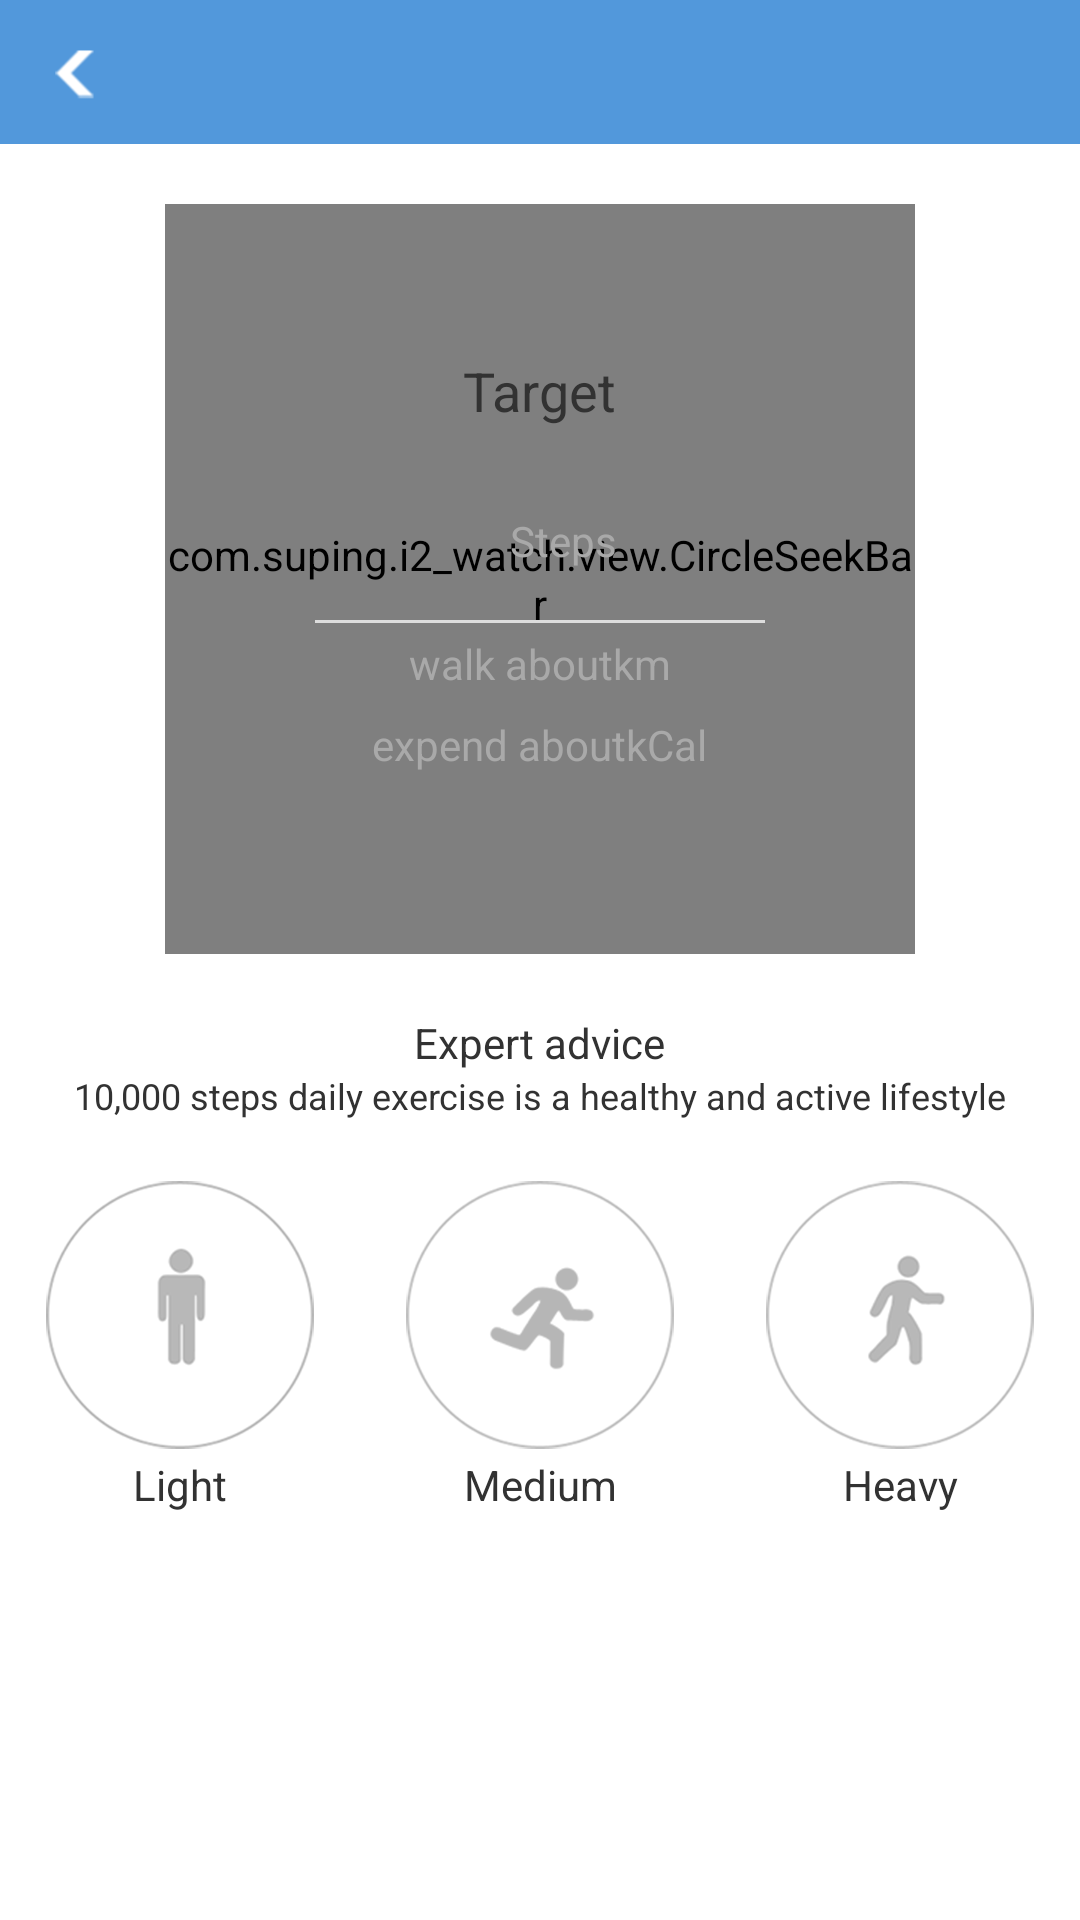

Icons on this 1080px x 1920px Android screen, each with the point to tap as point (x, y):
back: point (74, 74)
